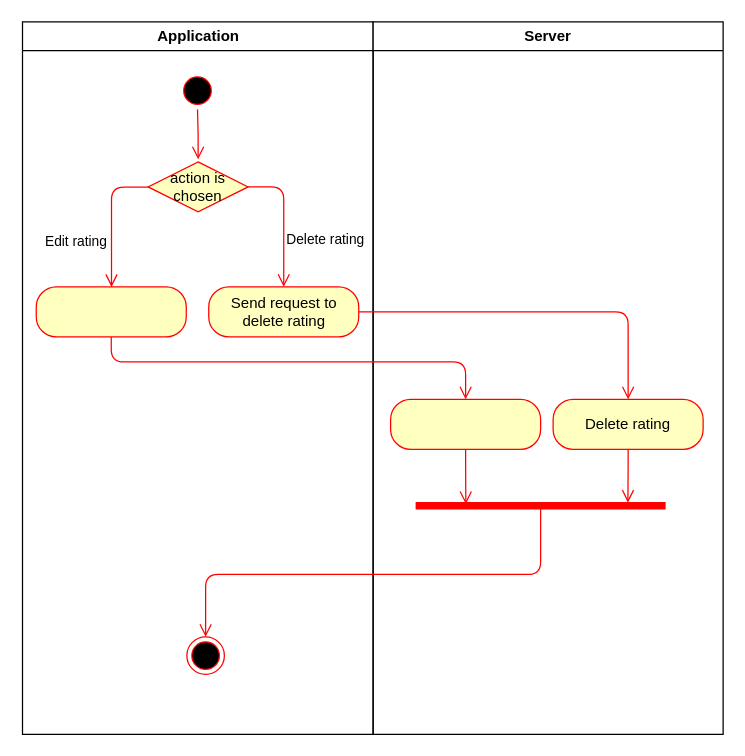
This 745x756 diagram has some shape labels left out. Each missing label, with the centre of its shape:
Overwrite old rating with changes: point 465,423
Send changed rating: point 110,311
